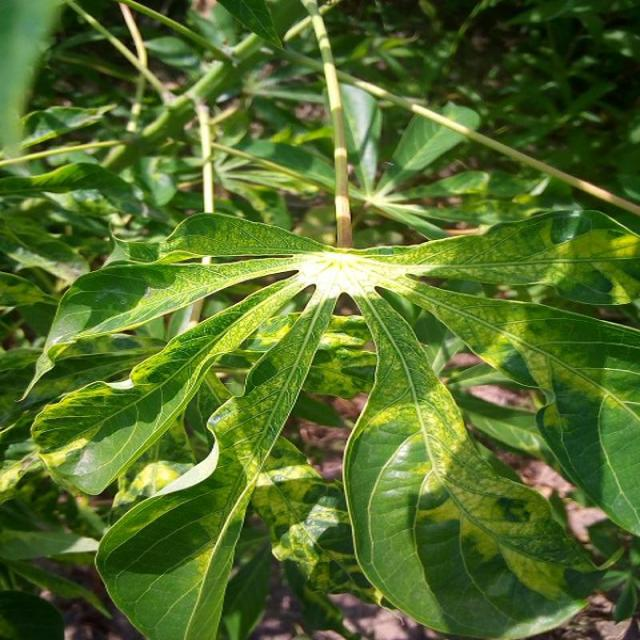cassava leaf: (18, 2, 638, 637), (342, 284, 607, 638), (92, 281, 338, 638)
